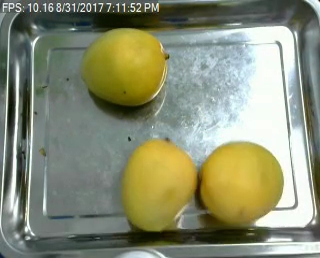Mango: (120, 136, 198, 234), (79, 23, 169, 107), (199, 137, 280, 225)
